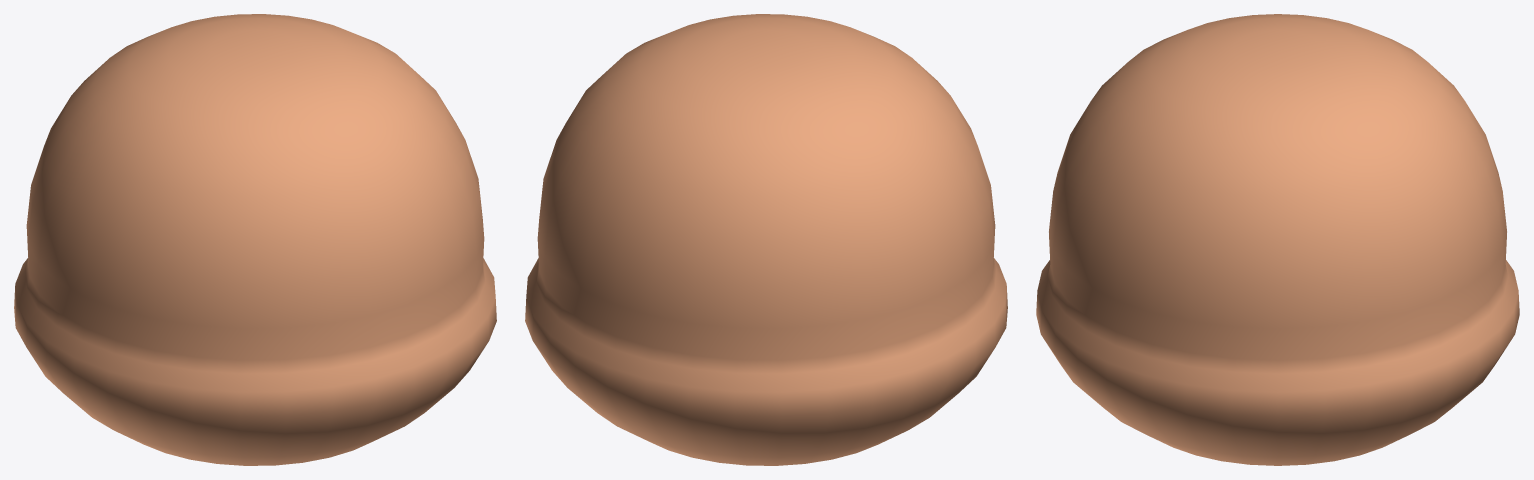
File: BolaVainilla.fbx
3 renders of one model, left to right at view 1: azimuth 30°, elevation 25°; view 2: azimuth 150°, elevation 25°; view 3: azimuth 270°, elevation 25°, orthographic.
Parts seen in each view (by area): view 1: BolaVainilla; view 2: BolaVainilla; view 3: BolaVainilla.
Boxes of the visible parts, <box> form: BolaVainilla: <box>14,14,496,465</box>; BolaVainilla: <box>525,14,1007,465</box>; BolaVainilla: <box>1036,14,1519,465</box>.
Bounding box in the file's own units: 305 × 270 × 305.
